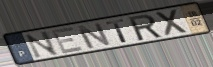E: (50, 25, 86, 55)
N: (75, 21, 114, 50), (24, 30, 61, 60)
R: (126, 13, 165, 42)
T: (105, 18, 130, 44)
X: (154, 7, 191, 38)
